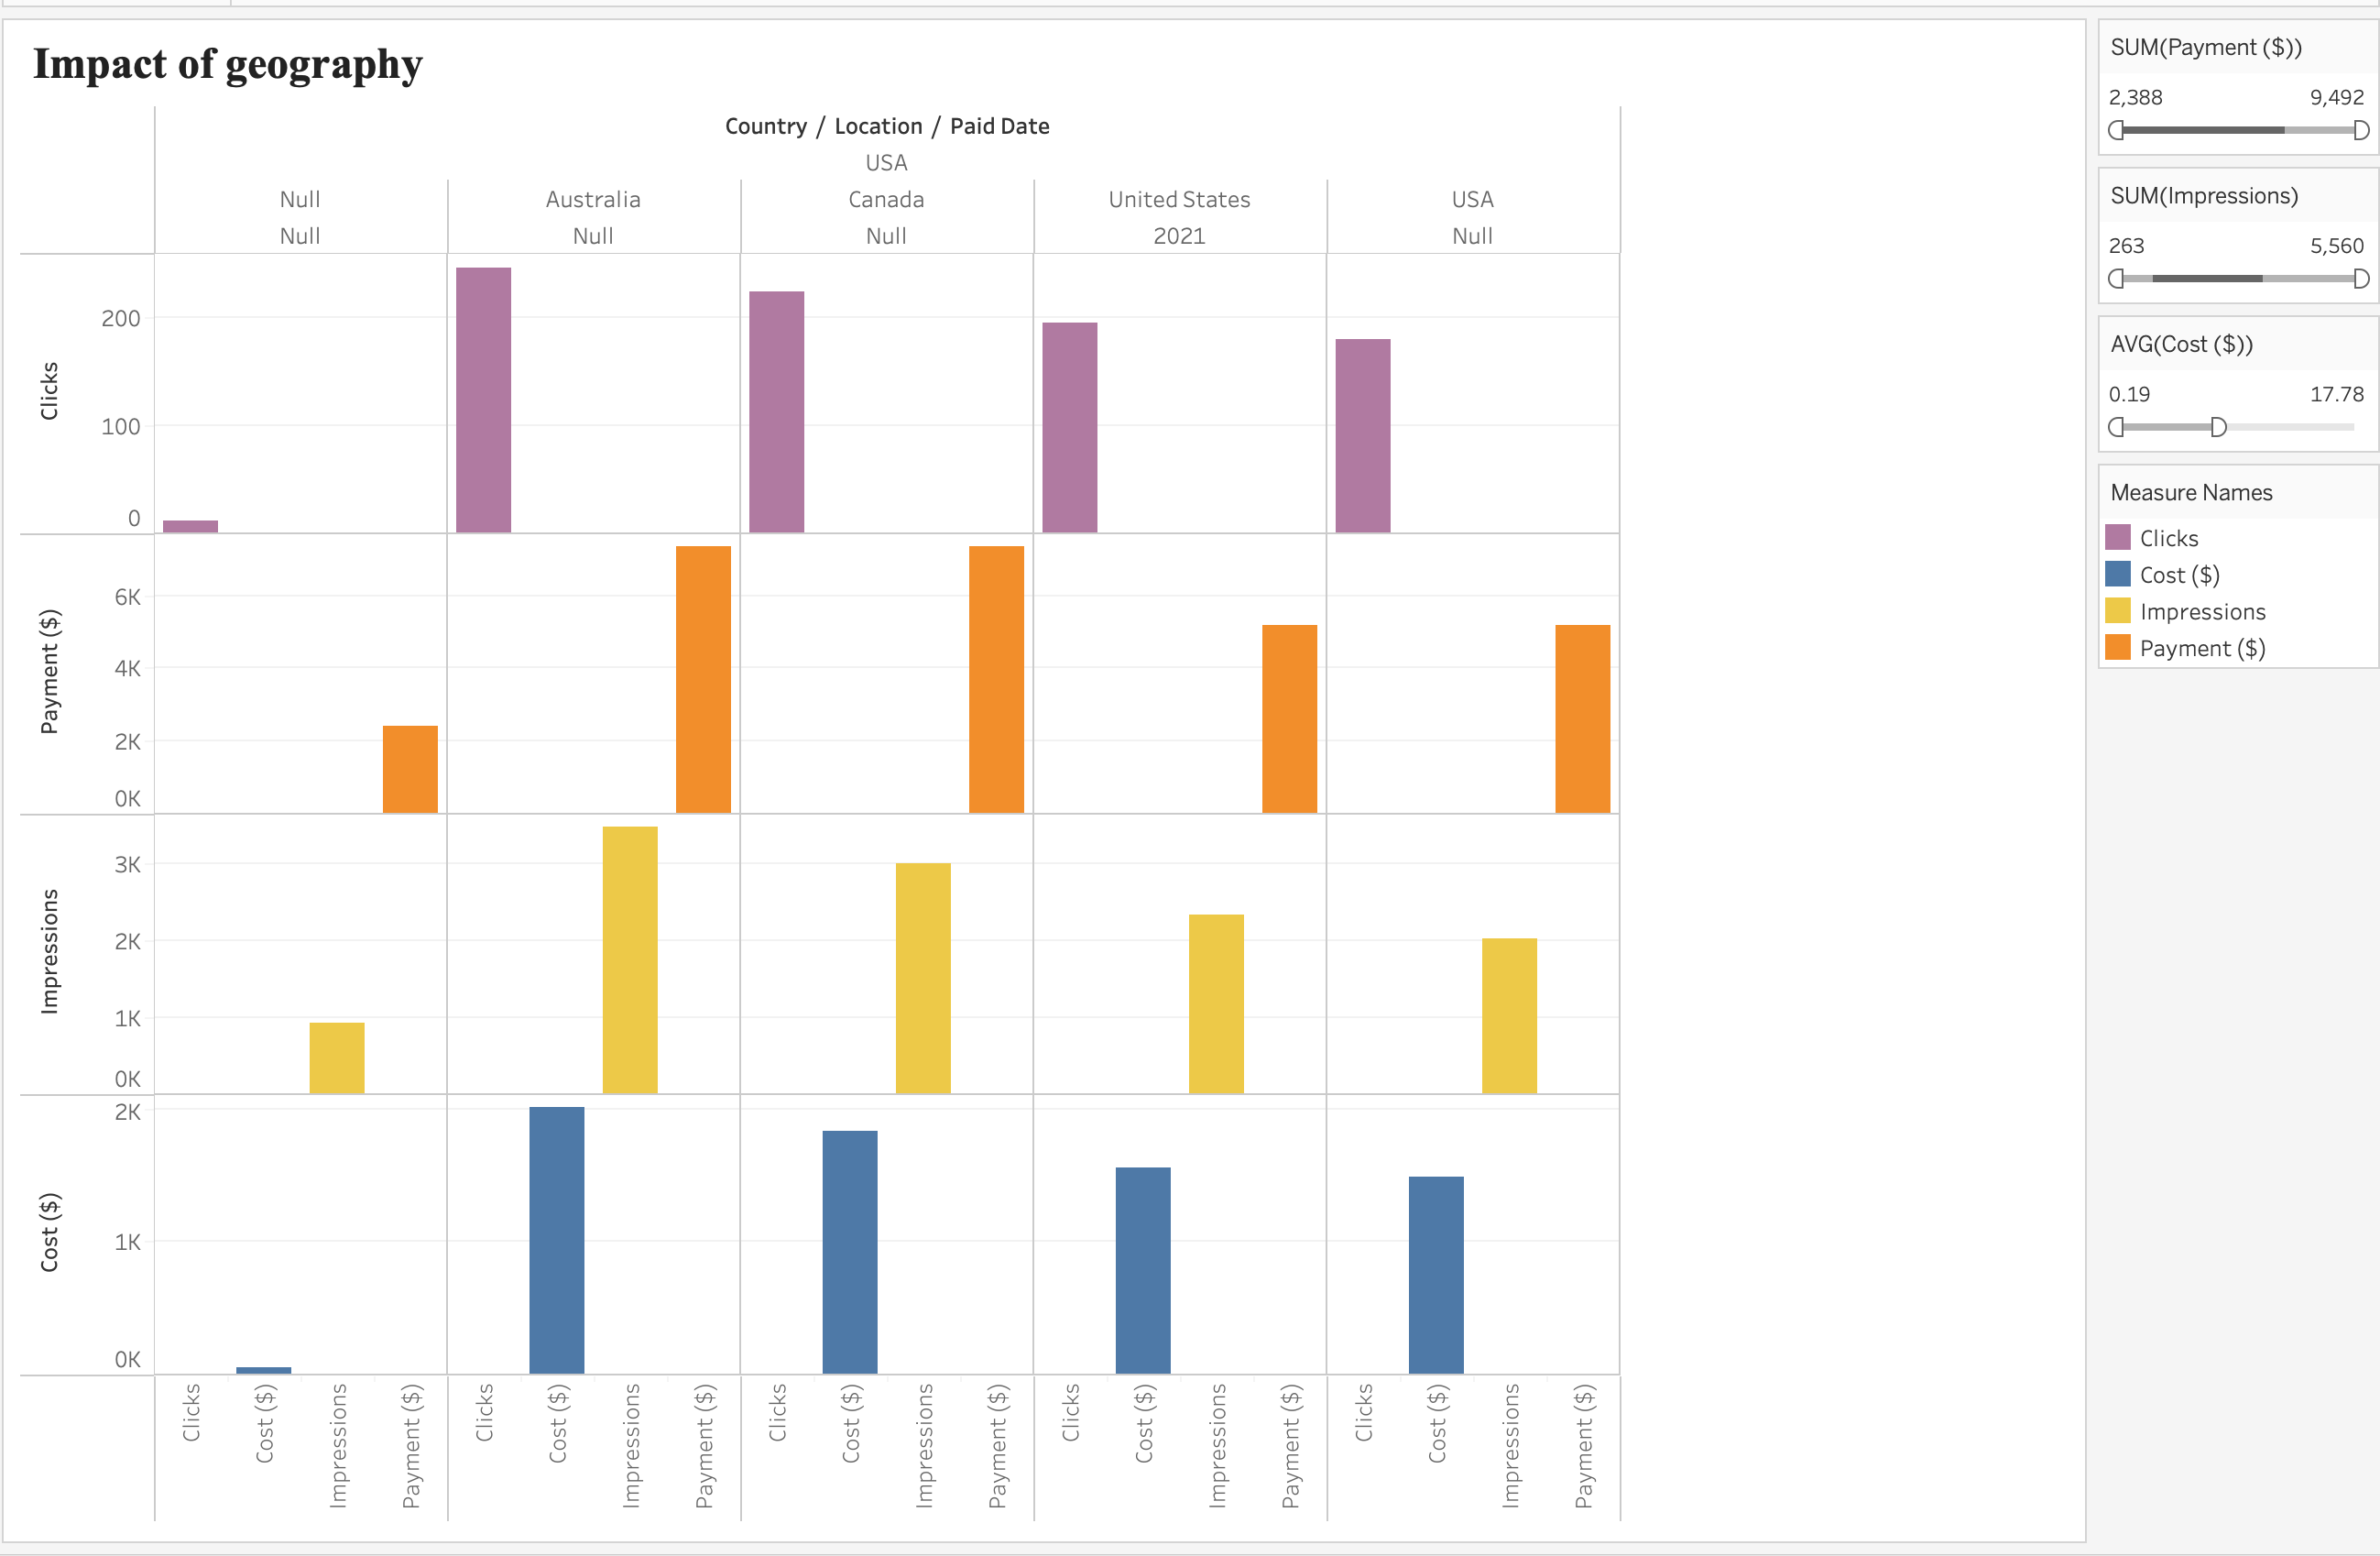

What the dashboard file says about the page in this screenshot:
{"tool":"tableau","page":{"name":"Dashboard 1","canvas":[1000,800],"ordinal":0},"visuals":[{"type":"worksheet","title":"Sheet 2 (2)","mark":"Automatic","rows":["Clicks","Cost ($)","Impressions","Payment ($)"],"cols":["Paid Date"],"box":[8,8,412,213]},{"type":"worksheet","title":"Sheet 1","mark":"Bar","rows":["Cost ($)","Impressions","Prospects","Payment ($)"],"cols":["Paid Date","Payment Date"],"box":[420,8,412,330]},{"type":"filter","title":"Sheet 1","param":"[federated.06csk8u094l3ow18qcfn30ir9ek1].[usr:Calculation_1926696266024144896:qk","box":[832,8,160,69]},{"type":"filter","title":"Sheet 1","param":"[federated.06csk8u094l3ow18qcfn30ir9ek1].[usr:Calculation_1926696266024771585:qk","box":[832,77,160,69]},{"type":"legend","title":"Sheet 1","param":"[federated.06csk8u094l3ow18qcfn30ir9ek1].[Multiple Values]","box":[832,146,160,65]},{"type":"highlighter","title":"Sheet 4","param":"[federated.06csk8u094l3ow18qcfn30ir9ek1].[none:Categories:nk]","box":[832,211,160,52]},{"type":"worksheet","title":"Sheet 3","mark":"Automatic","rows":["Cost ($)"],"cols":["Channel"],"box":[8,221,412,179]},{"type":"filter","title":"Sheet 5","param":"[federated.06csk8u094l3ow18qcfn30ir9ek1].[sum:Impressions:qk]","box":[832,263,160,69]},{"type":"filter","title":"Sheet 5","param":"[federated.06csk8u094l3ow18qcfn30ir9ek1].[avg:Cost ($):qk]","box":[832,332,160,69]},{"type":"worksheet","title":"Sheet 4","mark":"Automatic","rows":["Cost ($)","Money Spent ($)"],"cols":["Channel","Categories"],"box":[420,338,412,454]},{"type":"worksheet","title":"Sheet 5","mark":"Automatic","rows":["Channel"],"box":[8,400,412,392]},{"type":"legend","title":"Sheet 5","param":"[federated.06csk8u094l3ow18qcfn30ir9ek1].[sum:Payment ($):qk]","box":[832,401,160,65]},{"type":"filter","title":"Sheet 3","param":"[federated.06csk8u094l3ow18qcfn30ir9ek1].[none:Keyword type:nk]","box":[832,466,160,108]},{"type":"legend","title":"Sheet 3","param":"[federated.06csk8u094l3ow18qcfn30ir9ek1].[none:Keyword type:nk]","box":[832,574,160,86]}]}

Visuals, with their boxes on the page's 1000x800 design canvas (x1, y1, x2, y2). These are canvas units, not pixel positions in the 2380x1556 screenshot, which may show the page scaled, cropped or inside an application window:
"Sheet 2 (2)" worksheet: detection(8, 8, 420, 221)
"Sheet 1" worksheet (Bar marks): detection(420, 8, 832, 338)
"Sheet 1" filter: detection(832, 8, 992, 77)
"Sheet 1" filter: detection(832, 77, 992, 146)
"Sheet 1" legend: detection(832, 146, 992, 211)
"Sheet 4" highlighter: detection(832, 211, 992, 263)
"Sheet 3" worksheet: detection(8, 221, 420, 400)
"Sheet 5" filter: detection(832, 263, 992, 332)
"Sheet 5" filter: detection(832, 332, 992, 401)
"Sheet 4" worksheet: detection(420, 338, 832, 792)
"Sheet 5" worksheet: detection(8, 400, 420, 792)
"Sheet 5" legend: detection(832, 401, 992, 466)
"Sheet 3" filter: detection(832, 466, 992, 574)
"Sheet 3" legend: detection(832, 574, 992, 660)
